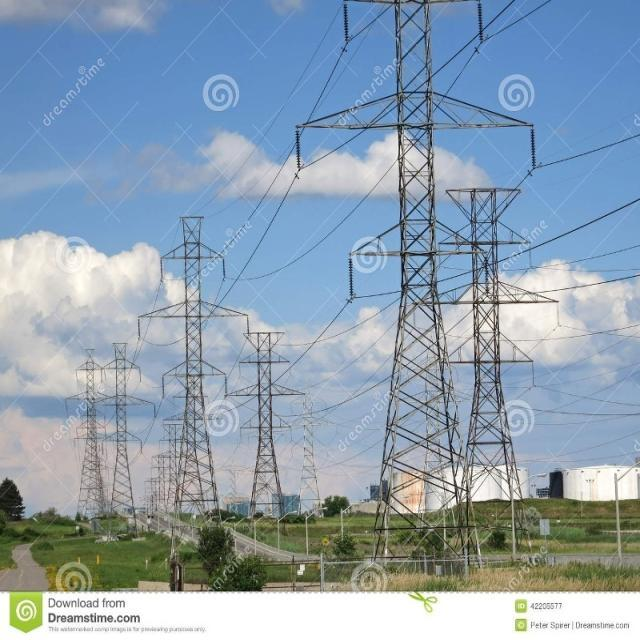non-critical vegetation: (306, 0, 512, 569), (151, 207, 244, 526), (72, 335, 142, 530), (230, 333, 288, 519)
